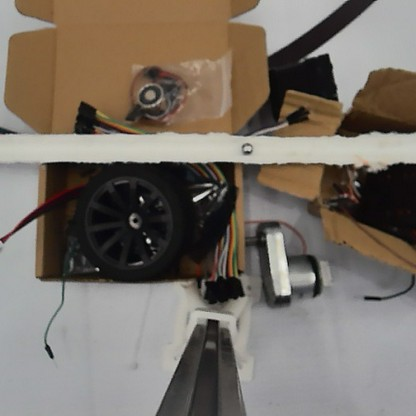ironball: (239, 140, 253, 156)
